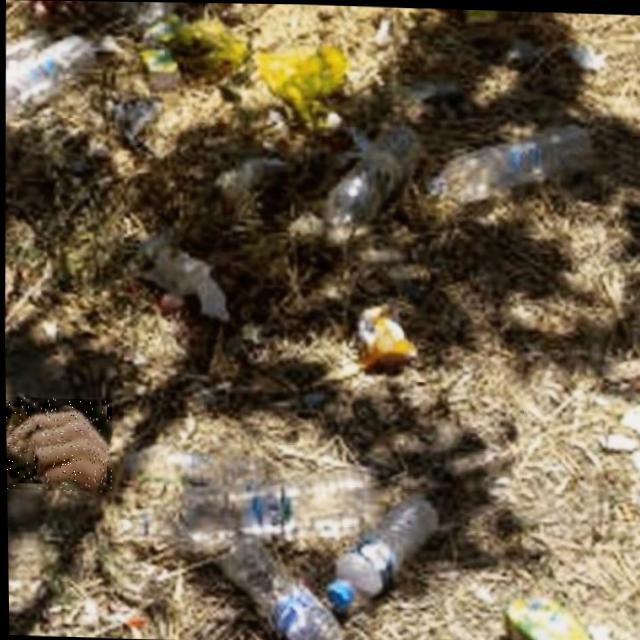Person in Rubble: (5, 396, 112, 491)
